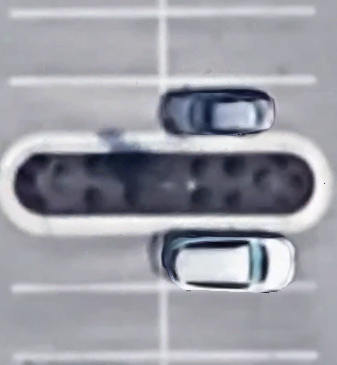Occupied: (165, 221, 315, 288), (164, 81, 315, 139)
Vacant: (9, 9, 164, 80), (163, 10, 314, 80), (13, 221, 165, 289), (13, 290, 165, 357), (164, 289, 316, 356), (9, 79, 164, 139)
